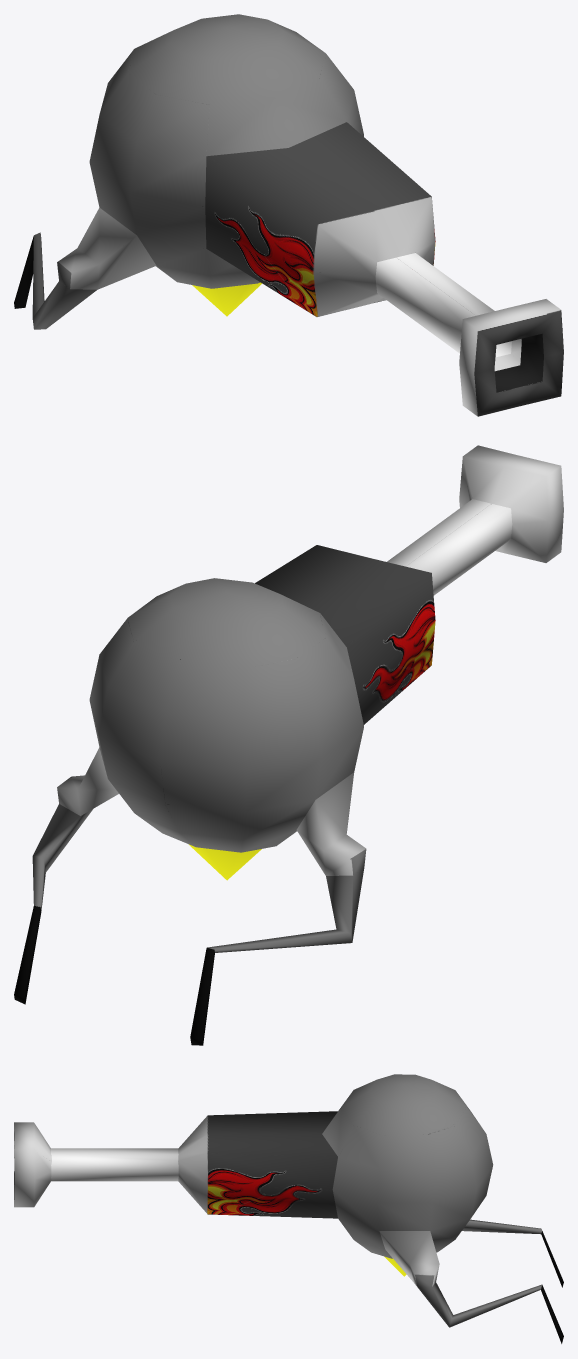
The model's file is Cannon.fbx.
The picture shows the model from 3 angles, top to bottom: view 1: azimuth 30°, elevation 25°; view 2: azimuth 150°, elevation 25°; view 3: azimuth 270°, elevation 25°; orthographic projection. The views are drawn at different scales.
Visible parts, largest first — view 1: Sphere_001; view 2: Sphere_001; view 3: Sphere_001.
Boxes of the visible parts, left/top/right/bottom form: Sphere_001: left=14, top=14, right=563, bottom=416; Sphere_001: left=14, top=445, right=563, bottom=1045; Sphere_001: left=14, top=1074, right=563, bottom=1343.
Bounding box in the file's own units: 2.23 × 2.31 × 5.
